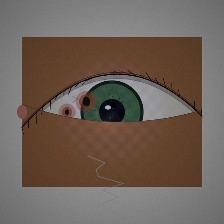foreign_body_visible: (40, 118, 81, 151)
